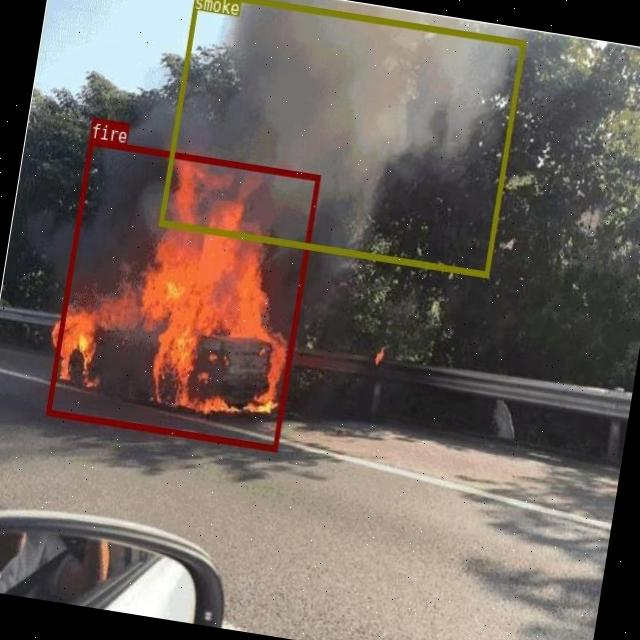fire: (45, 138, 320, 450)
smoke: (159, 0, 525, 276)
